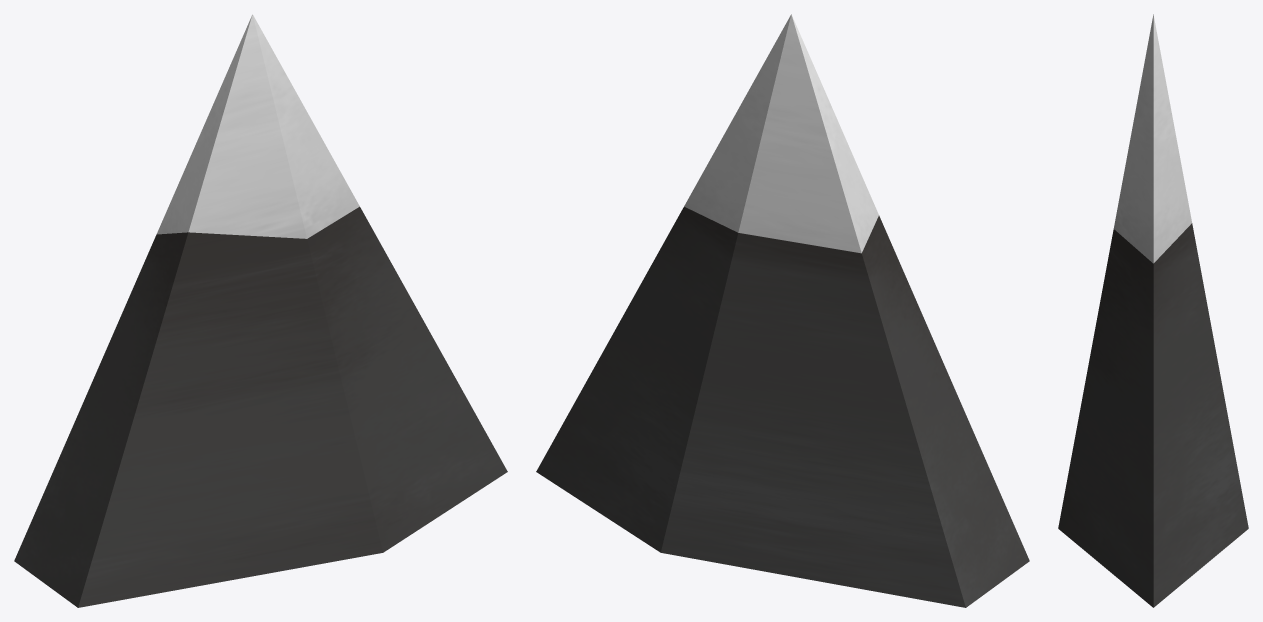
The model's file is mountain3.fbx.
The picture shows the model from 3 angles, left to right: view 1: azimuth 30°, elevation 25°; view 2: azimuth 150°, elevation 25°; view 3: azimuth 270°, elevation 25°; orthographic projection. The views are drawn at different scales.
Parts seen in each view (by area): view 1: pPyramid5; view 2: pPyramid5; view 3: pPyramid5.
Boxes of the visible parts, x1,y1,x2,y2 form: pPyramid5: [14, 14, 507, 607]; pPyramid5: [536, 14, 1029, 607]; pPyramid5: [1058, 14, 1248, 607].
Size of the model in its own units: 2.2 by 2.37 by 0.8533.
1 material, 1 textured.
